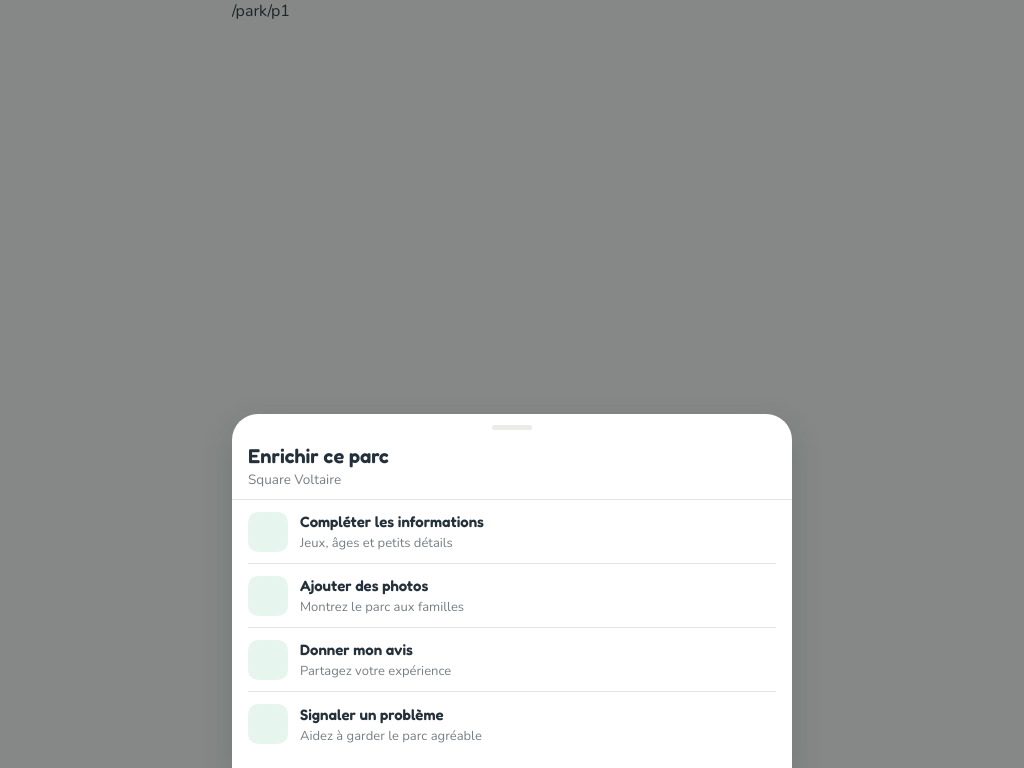
ContributeSheet — « Enrichir ce parc » › « Compléter les informations » ouvre le parcours avec le parc présélectionné
Step 1. Click the text "Compléter les informations" → (392, 522), box [300, 512, 484, 531]
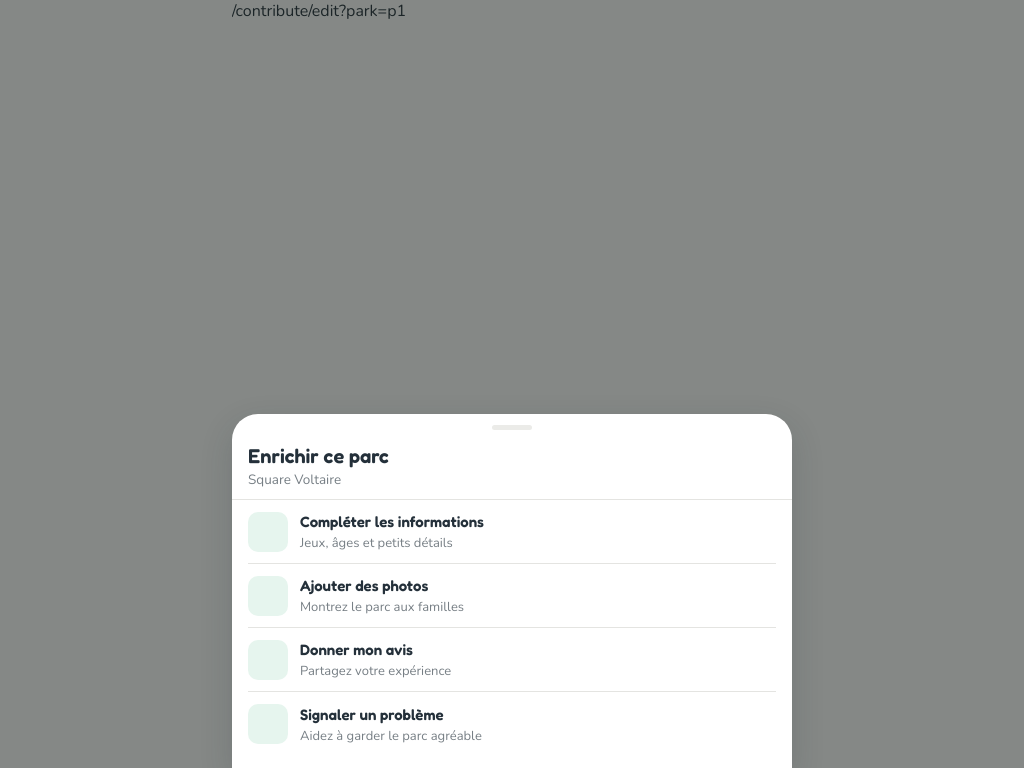
expect the text with test id "where" reads "/contribute/edit?park=p1": met, box [232, 0, 406, 22]
